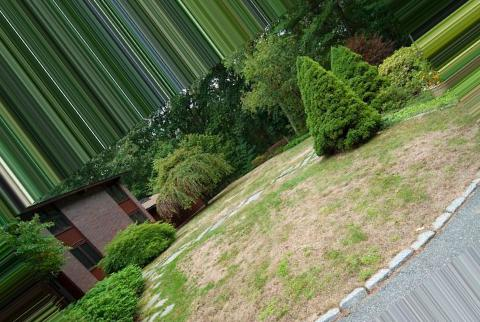patch: (290, 202, 341, 267), (359, 221, 412, 244), (198, 251, 224, 278), (215, 300, 251, 318), (439, 186, 461, 204), (263, 239, 282, 254)
